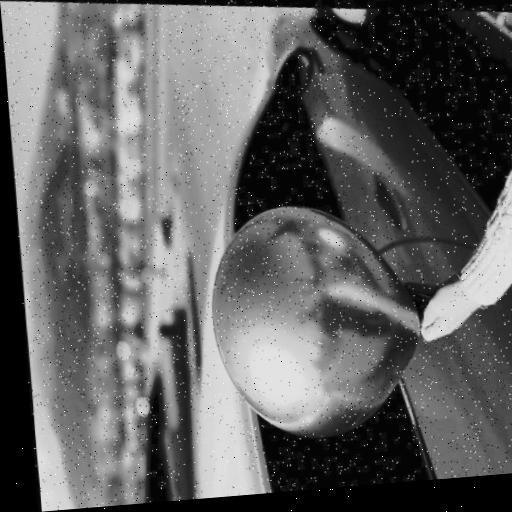balloon: (200, 183, 433, 455)
